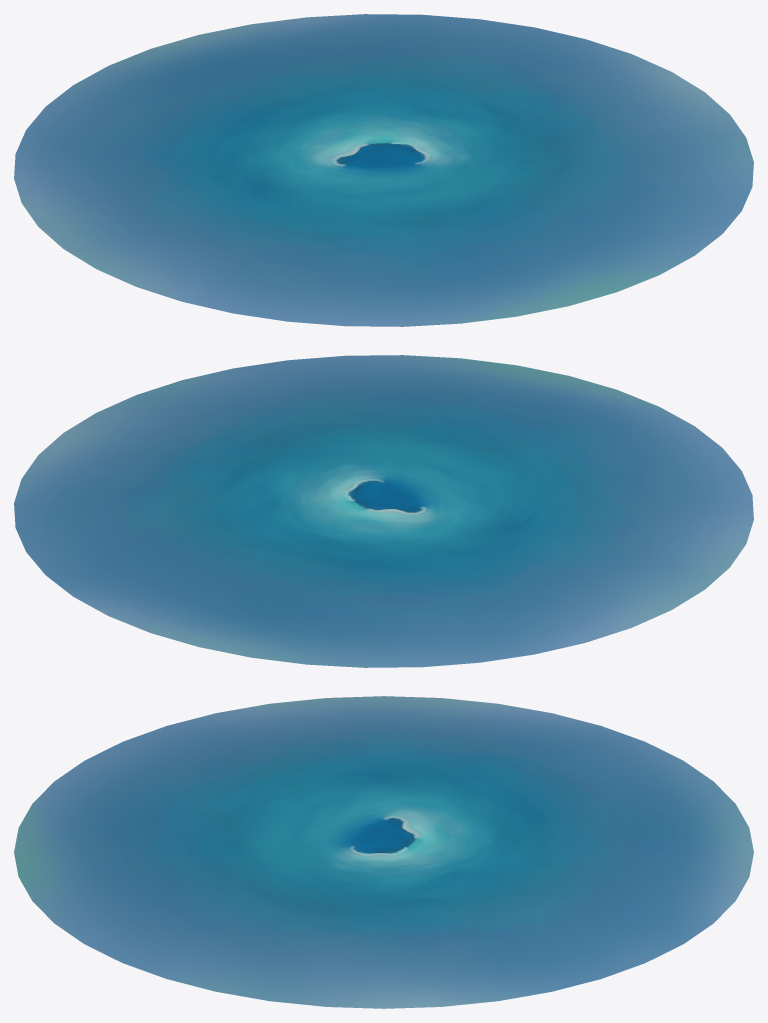
The model's file is sea.obj.
3 renders of one model, top to bottom at view 1: azimuth 30°, elevation 25°; view 2: azimuth 150°, elevation 25°; view 3: azimuth 270°, elevation 25°, orthographic.
Parts seen in each view (by area): view 1: Object002; view 2: Object002; view 3: Object002.
Part boxes in pixels (bbox=[...]): Object002: bbox=[14, 14, 753, 326]; Object002: bbox=[14, 355, 753, 667]; Object002: bbox=[14, 696, 753, 1008].
Bounding box in the file's own units: 91.34 × 1.94 × 91.34.
